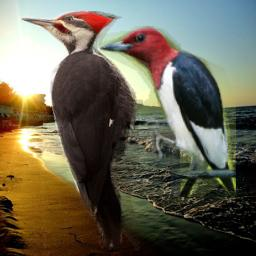Woodpecker: (16, 11, 143, 251), (99, 26, 236, 197)
